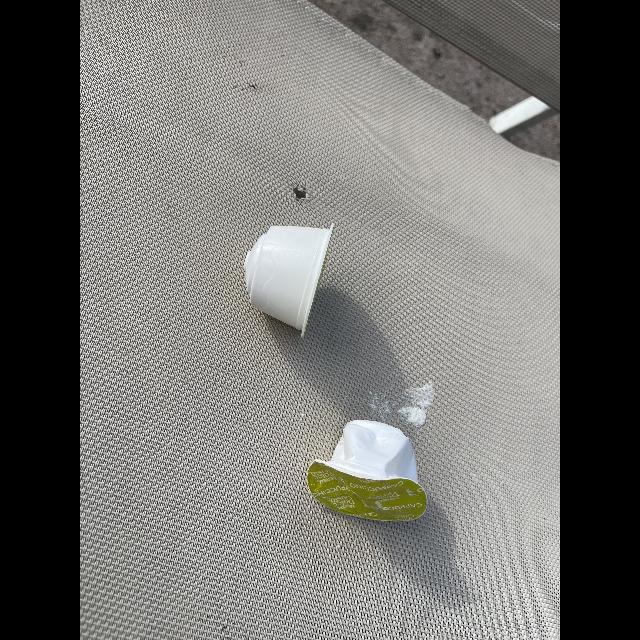damaged_capsule: (306, 416, 432, 526)
intact_capsule: (242, 221, 336, 339)
